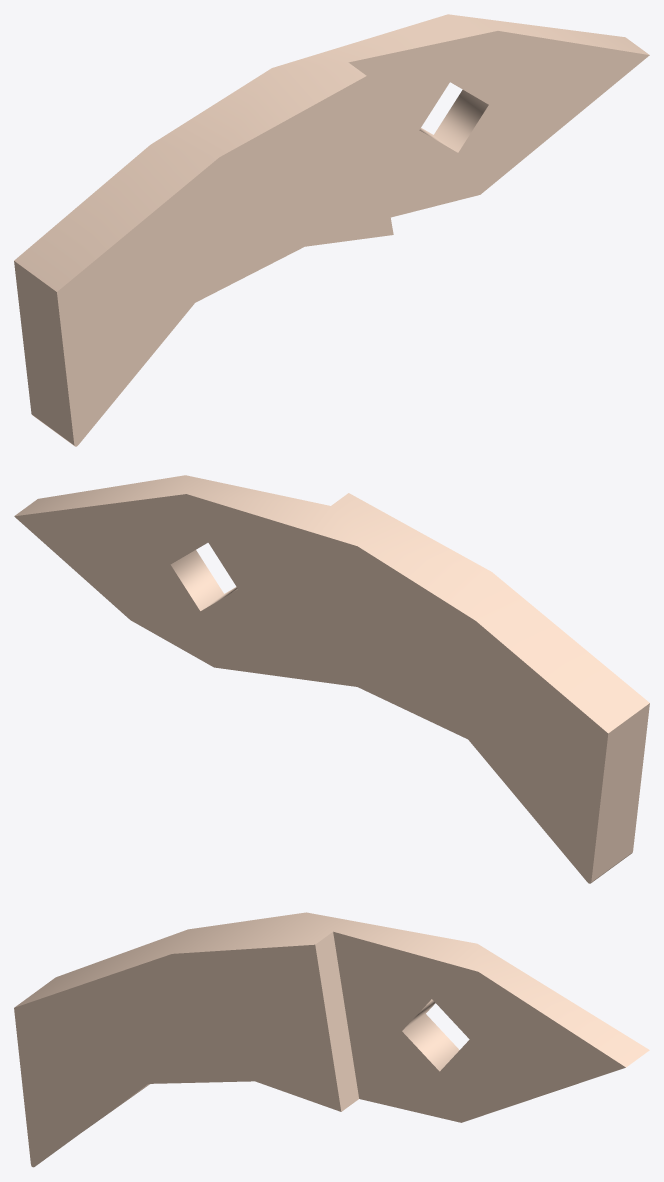
The model's file is Cliquet barillet Heures.obj.
The picture shows the model from 3 angles, top to bottom: view 1: azimuth 30°, elevation 25°; view 2: azimuth 150°, elevation 25°; view 3: azimuth 330°, elevation 25°; orthographic projection. The views are drawn at different scales.
Parts seen in each view (by area): view 1: Face_2, Face_7, Face_5, Face_6, Face_1; view 2: Face_3, Face_5, Face_6, Face_1; view 3: Face_2, Face_7, Face_5, Face_8, Face_1.
Part boxes in pixels (<box>): Face_2: <box>57,76,393,446</box>; Face_7: <box>348,31,649,217</box>; Face_5: <box>14,14,649,291</box>; Face_6: <box>14,261,74,444</box>; Face_1: <box>419,90,488,152</box>; Face_3: <box>14,494,608,883</box>; Face_5: <box>14,475,649,733</box>; Face_6: <box>591,703,649,881</box>; Face_1: <box>170,550,237,610</box>; Face_2: <box>14,944,341,1167</box>; Face_7: <box>333,931,625,1122</box>; Face_5: <box>15,912,649,1067</box>; Face_8: <box>315,932,358,1111</box>; Face_1: <box>402,999,459,1071</box>.
Bounding box in the file's own units: 0.0288 × 0.0135 × 0.0035.
